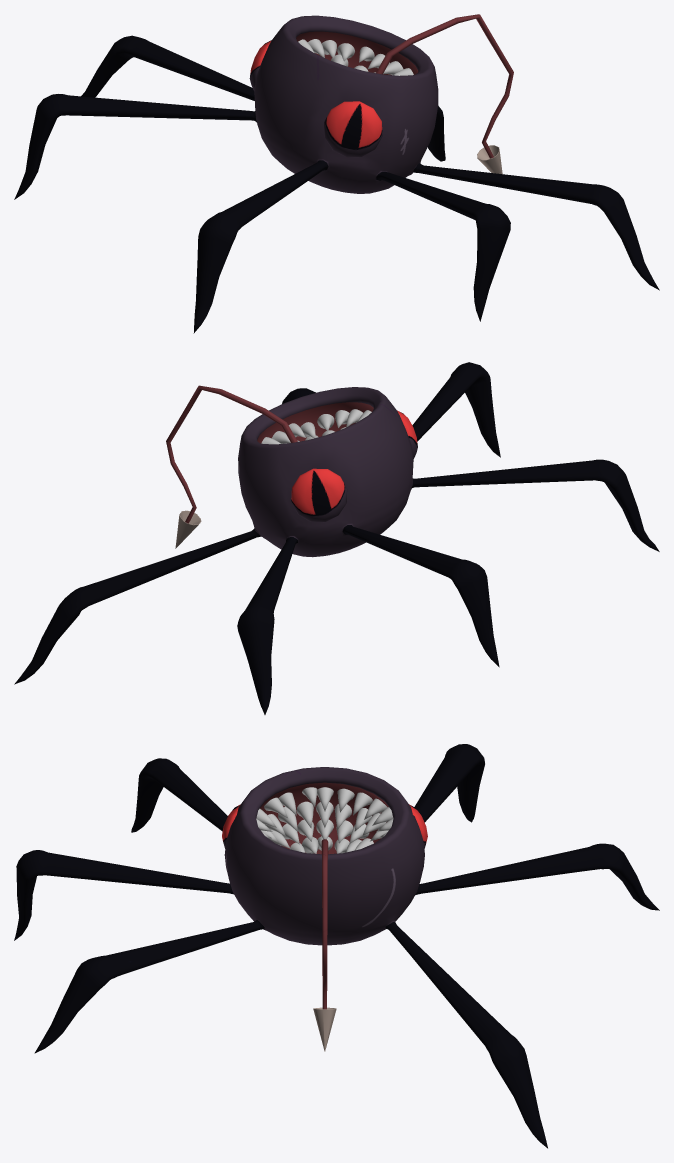
The model's file is monster.fbx.
3 renders of one model, top to bottom at view 1: azimuth 30°, elevation 25°; view 2: azimuth 150°, elevation 25°; view 3: azimuth 270°, elevation 25°, orthographic. The views are drawn at different scales.
Parts seen in each view (by area): view 1: FINAL_monster:body, FINAL_monster:upperTeeth; view 2: FINAL_monster:body, FINAL_monster:upperTeeth; view 3: FINAL_monster:body, FINAL_monster:upperTeeth.
Boxes of the visible parts, left/top/right/bottom form: FINAL_monster:body: left=14, top=14, right=659, bottom=333; FINAL_monster:upperTeeth: left=298, top=39, right=413, bottom=75; FINAL_monster:body: left=14, top=362, right=659, bottom=714; FINAL_monster:upperTeeth: left=261, top=409, right=371, bottom=444; FINAL_monster:body: left=14, top=744, right=659, bottom=1148; FINAL_monster:upperTeeth: left=256, top=787, right=393, bottom=853.
Size of the model in its own units: 16.98 by 9.06 by 20.64.
2 materials, 1 textured.
